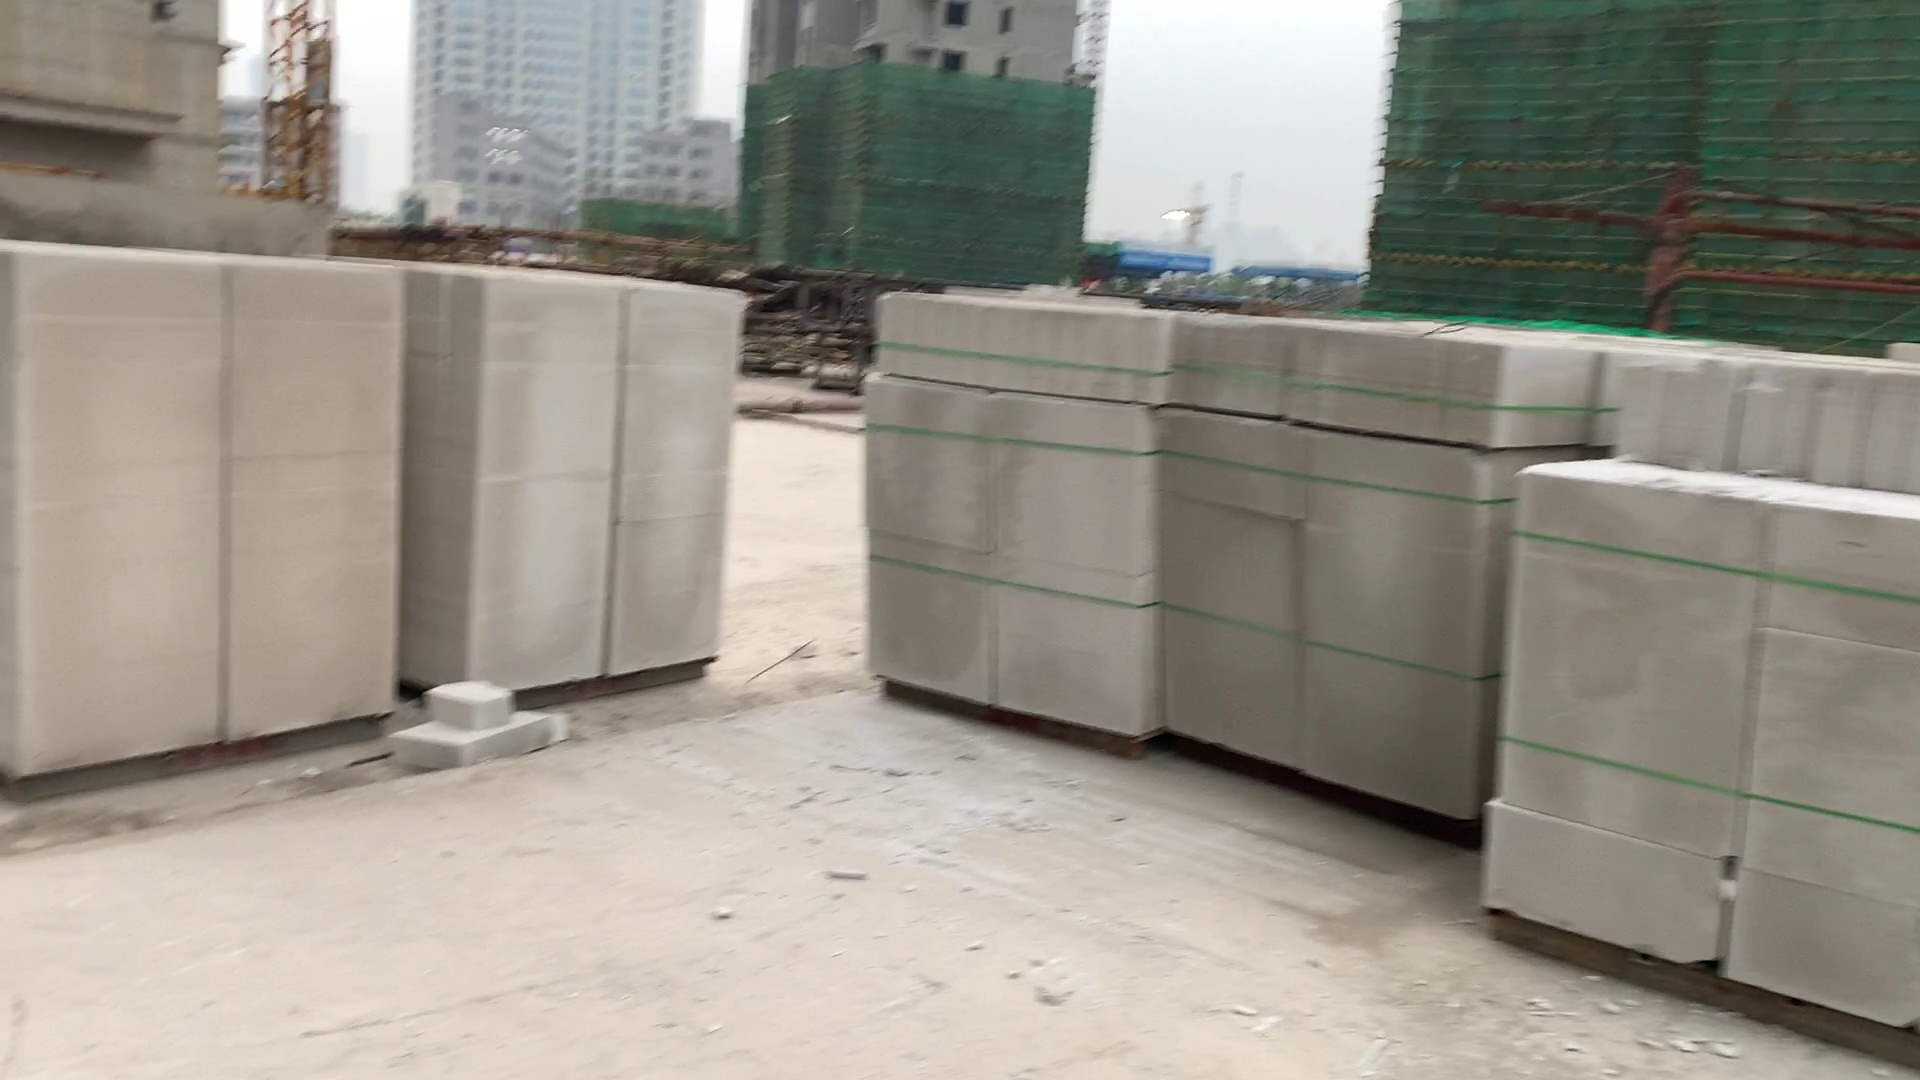brickwork: (1505, 365, 1911, 1026), (7, 252, 400, 764), (1160, 318, 1491, 831), (414, 264, 733, 680), (864, 291, 1154, 741)
